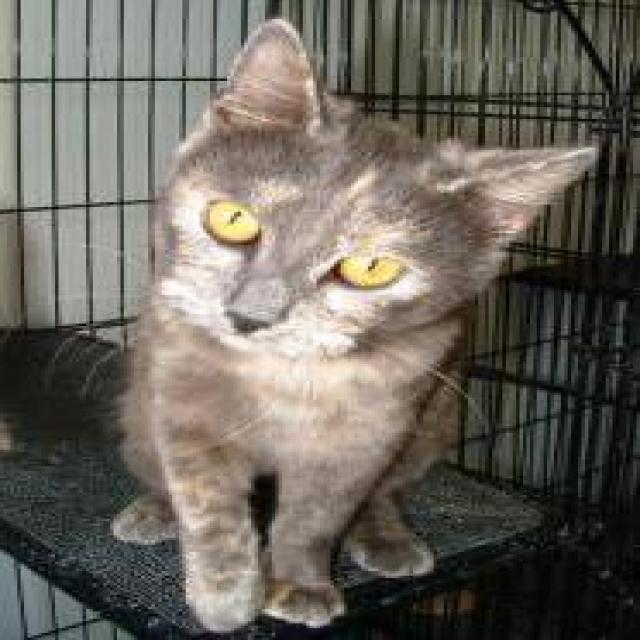cat: (106, 14, 598, 630)
